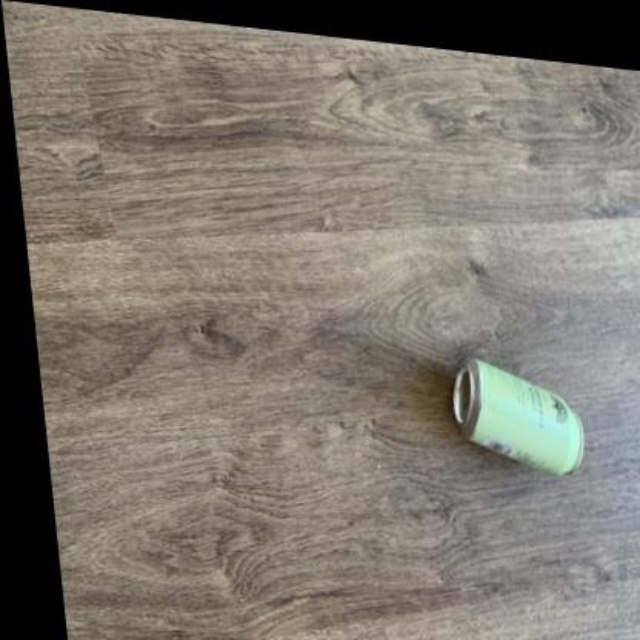trash: (454, 358, 583, 474)
